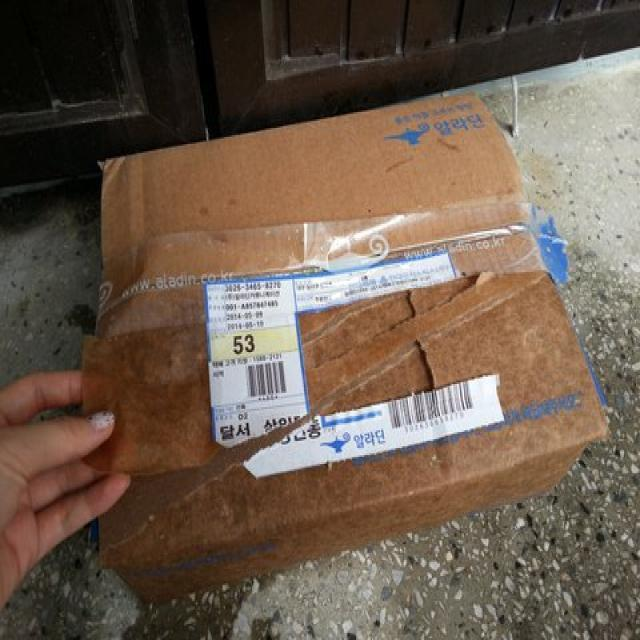wet: (104, 259, 612, 548)
